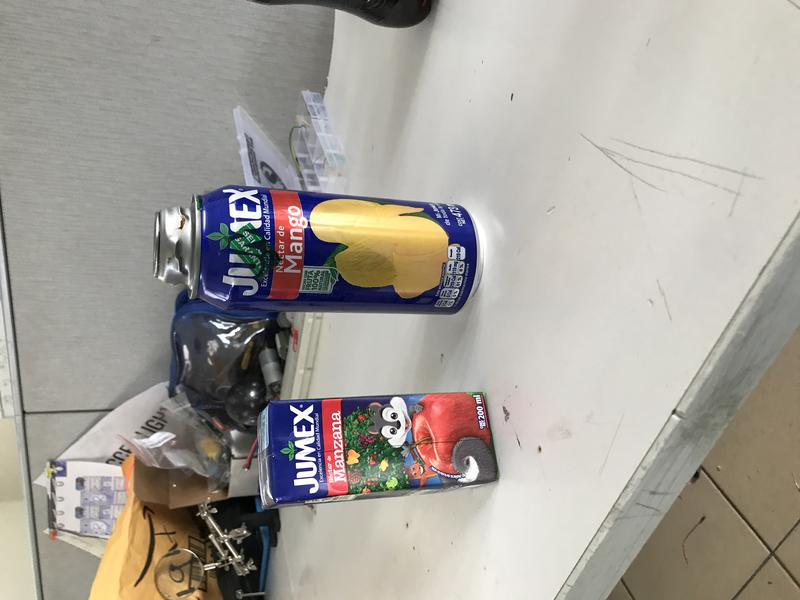jumex_botella: (153, 185, 484, 318)
jumex_cajita: (256, 391, 500, 510)
